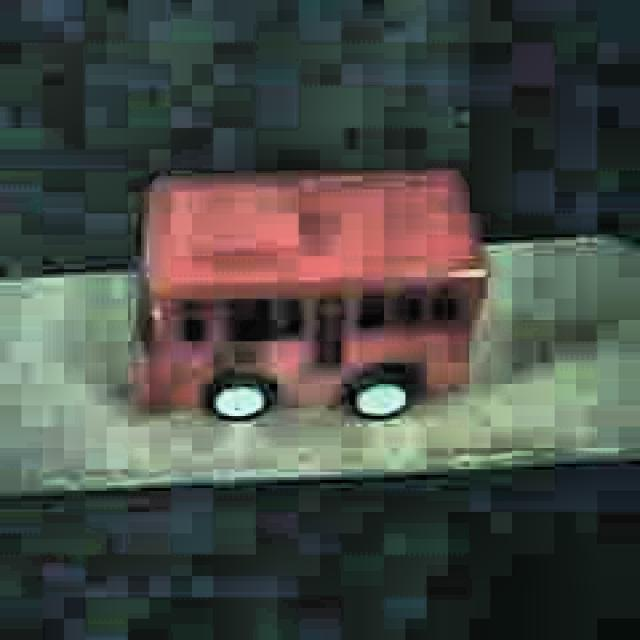bus: (127, 164, 492, 423)
